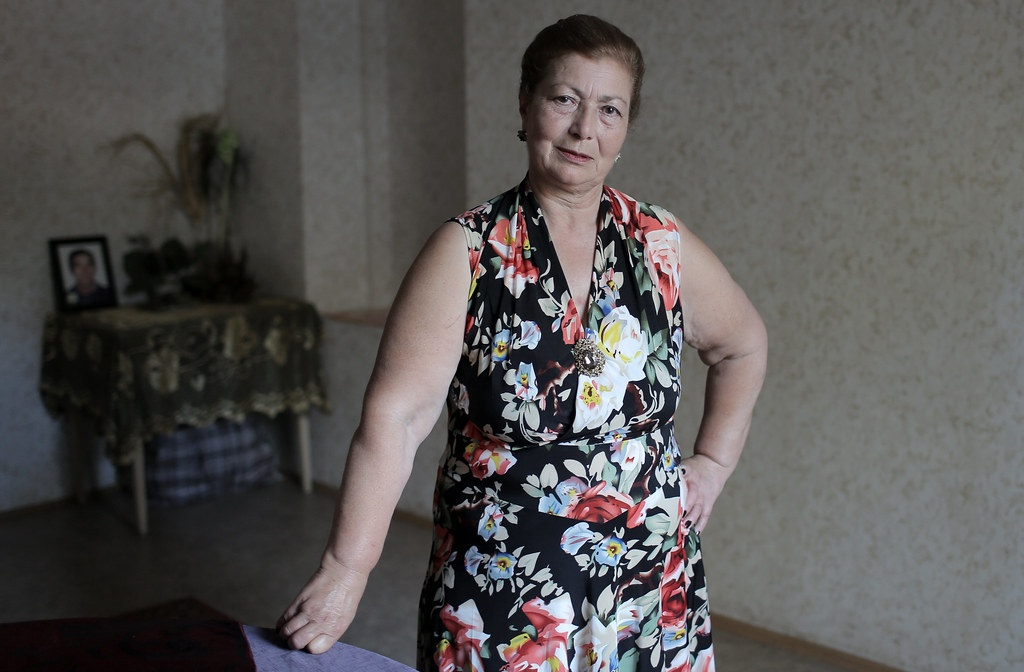without_mask: (512, 46, 640, 181)
